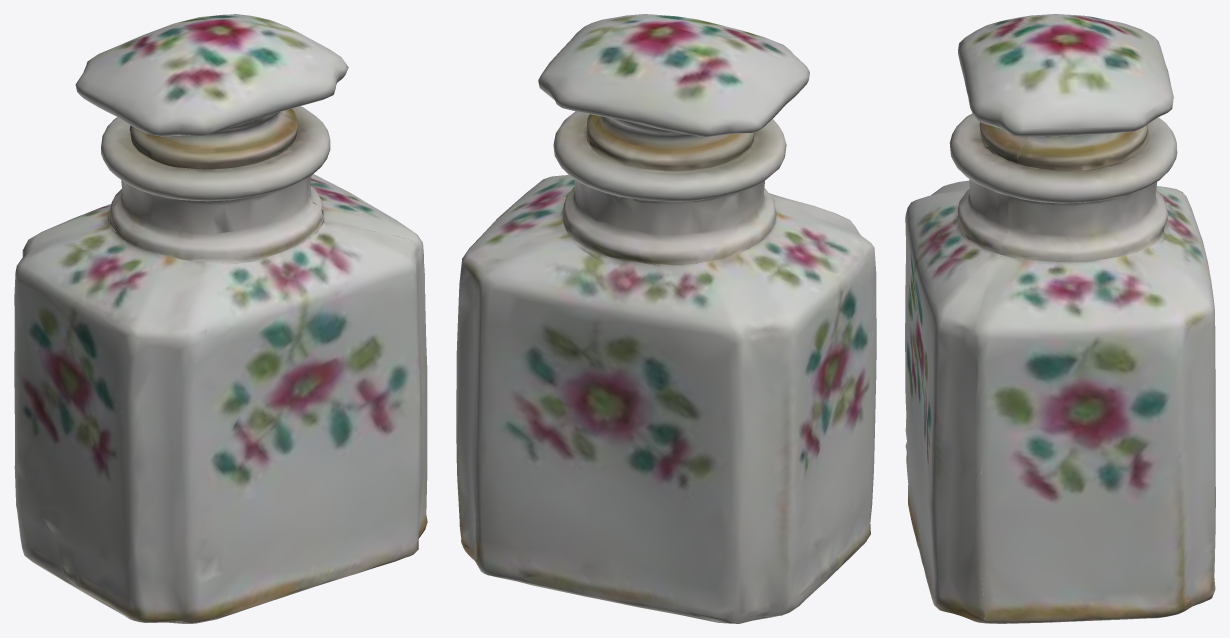
The model's file is obj_porcelain_perfume_bottle.glb.
3 renders of one model, left to right at view 1: azimuth 30°, elevation 25°; view 2: azimuth 150°, elevation 25°; view 3: azimuth 270°, elevation 25°, orthographic.
Visible parts, largest first — view 1: Object_2; view 2: Object_2; view 3: Object_2.
Part boxes in pixels (x1,y1,x2,y2): Object_2: (14, 14, 427, 623); Object_2: (456, 14, 876, 623); Object_2: (905, 14, 1215, 623).
Bounding box in the file's own units: 0.0882 × 0.13 × 0.0711.
Materials: 1 (1 with a texture image).
